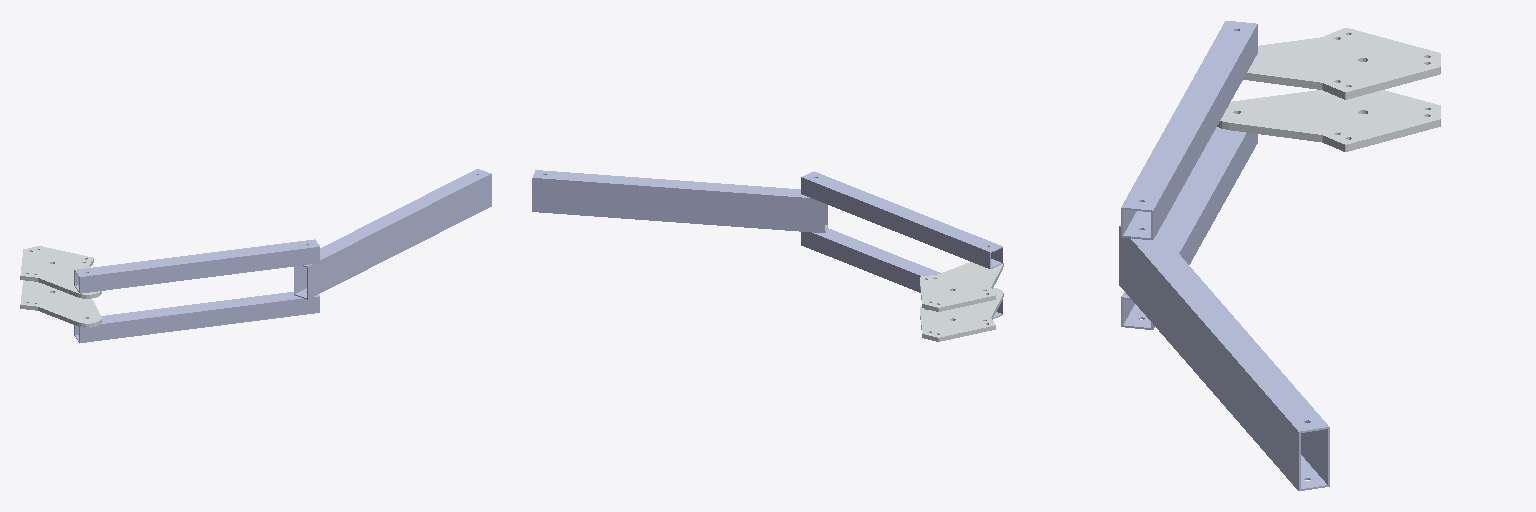
URDF robot description (ARM_GL_FEASimplified):
<?xml version="1.0" encoding="utf-8"?>
<!-- This URDF was automatically created by SolidWorks to URDF Exporter! Originally created by [author] ([email redacted]) 
     Commit Version: 1.5.1-0-g916b5db  Build Version: 1.5.7152.31018
     For more information, please see http://wiki.ros.org/sw_urdf_exporter -->
<robot
  name="ARM_GL_FEASimplified">
  <link
    name="base_link">
    <inertial>
      <origin
        xyz="0.42345 -0.78175 0.39384"
        rpy="0 0 0" />
      <mass
        value="2.0723" />
      <inertia
        ixx="0.26421"
        ixy="6.2094E-17"
        ixz="-2.0386E-16"
        iyy="0.2632"
        iyz="0.00035409"
        izz="0.013402" />
    </inertial>
    <visual>
      <origin
        xyz="0 0 0"
        rpy="0 0 0" />
      <geometry>
        <mesh
          filename="package://ARM_GL_FEASimplified/meshes/base_link.STL" />
      </geometry>
      <material
        name="">
        <color
          rgba="0.89804 0.91765 0.92941 1" />
      </material>
    </visual>
    <collision>
      <origin
        xyz="0 0 0"
        rpy="0 0 0" />
      <geometry>
        <mesh
          filename="package://ARM_GL_FEASimplified/meshes/base_link.STL" />
      </geometry>
    </collision>
  </link>
  <link
    name="linear_link">
    <inertial>
      <origin
        xyz="-0.023566 0.0254 -4.22E-10"
        rpy="0 0 0" />
      <mass
        value="0.3983" />
      <inertia
        ixx="0.00021468"
        ixy="1.1874E-11"
        ixz="-1.1027E-18"
        iyy="0.00092937"
        iyz="-3.5223E-12"
        izz="0.00071736" />
    </inertial>
    <visual>
      <origin
        xyz="0 0 0"
        rpy="0 0 0" />
      <geometry>
        <mesh
          filename="package://ARM_GL_FEASimplified/meshes/linear_link.STL" />
      </geometry>
      <material
        name="">
        <color
          rgba="0.89804 0.91765 0.92941 1" />
      </material>
    </visual>
    <collision>
      <origin
        xyz="0 0 0"
        rpy="0 0 0" />
      <geometry>
        <mesh
          filename="package://ARM_GL_FEASimplified/meshes/linear_link.STL" />
      </geometry>
    </collision>
  </link>
  <joint
    name="linear_joint"
    type="fixed">
    <origin
      xyz="0.42345 -0.78271 0.7034"
      rpy="-1.5708 0 1.5708" />
    <parent
      link="base_link" />
    <child
      link="linear_link" />
    <axis
      xyz="0 0 0" />
    <limit
      lower="0"
      upper="0"
      effort="0"
      velocity="0" />
  </joint>
  <link
    name="shoulder_link">
    <inertial>
      <origin
        xyz="0.0127 -0.0254 0.175"
        rpy="0 0 0" />
      <mass
        value="0.1056" />
      <inertia
        ixx="0.0010841"
        ixy="-6.9978E-16"
        ixz="2.5263E-18"
        iyy="0.0010842"
        iyz="-1.3142E-11"
        izz="2.0059E-05" />
    </inertial>
    <visual>
      <origin
        xyz="0 0 0"
        rpy="0 0 0" />
      <geometry>
        <mesh
          filename="package://ARM_GL_FEASimplified/meshes/shoulder_link.STL" />
      </geometry>
      <material
        name="">
        <color
          rgba="0.79216 0.81961 0.93333 1" />
      </material>
    </visual>
    <collision>
      <origin
        xyz="0 0 0"
        rpy="0 0 0" />
      <geometry>
        <mesh
          filename="package://ARM_GL_FEASimplified/meshes/shoulder_link.STL" />
      </geometry>
    </collision>
  </link>
  <joint
    name="shoulder_joint"
    type="fixed">
    <origin
      xyz="-0.10602 0 0.017518"
      rpy="3.1416 0.23193 0" />
    <parent
      link="linear_link" />
    <child
      link="shoulder_link" />
    <axis
      xyz="0 0 0" />
  </joint>
  <link
    name="elbow_link">
    <inertial>
      <origin
        xyz="-6.6613E-16 -0.0254 0.185"
        rpy="0 0 0" />
      <mass
        value="0.092617" />
      <inertia
        ixx="0.0012632"
        ixy="9.3869E-20"
        ixz="3.8133E-18"
        iyy="0.0012426"
        iyz="-7.0674E-18"
        izz="4.1215E-05" />
    </inertial>
    <visual>
      <origin
        xyz="0 0 0"
        rpy="0 0 0" />
      <geometry>
        <mesh
          filename="package://ARM_GL_FEASimplified/meshes/elbow_link.STL" />
      </geometry>
      <material
        name="">
        <color
          rgba="0.79216 0.81961 0.93333 1" />
      </material>
    </visual>
    <collision>
      <origin
        xyz="0 0 0"
        rpy="0 0 0" />
      <geometry>
        <mesh
          filename="package://ARM_GL_FEASimplified/meshes/elbow_link.STL" />
      </geometry>
    </collision>
  </link>
  <joint
    name="elbow_joint"
    type="continuous">
    <origin
      xyz="0.0127 0 0.335"
      rpy="0 0.58421 0" />
    <parent
      link="shoulder_link" />
    <child
      link="elbow_link" />
    <axis
      xyz="0 1 0" />
  </joint>
</robot>

--- Render facts (derived) ---
Views: 3 orthographic renders of the robot side by side, from view 1: azimuth 30°, elevation 25°; view 2: azimuth 150°, elevation 25°; view 3: azimuth 270°, elevation 25°.
Robot: ARM_GL_FEASimplified — 4 links, 3 joints (1 continuous, 2 fixed); root link base_link; default pose: all joints at 0.
Visible links, largest first — view 1: shoulder_link, elbow_link, linear_link; view 2: elbow_link, shoulder_link, linear_link; view 3: elbow_link, linear_link, shoulder_link.
Boxes of the visible links, x1,y1,x2,y2 form: shoulder_link: (74, 239, 319, 342); elbow_link: (294, 169, 491, 299); linear_link: (20, 246, 101, 327); elbow_link: (532, 170, 827, 232); shoulder_link: (801, 171, 1002, 319); linear_link: (920, 262, 1003, 341); elbow_link: (1119, 225, 1329, 490); linear_link: (1217, 28, 1440, 151); shoulder_link: (1121, 21, 1257, 329).
Bounding box of the posed robot: 0.7363 × 0.2473 × 0.1016 m (x, y, z).
Meshes: 4 distinct files referenced, 3 mesh visuals loaded (3 binary STL); not drawn: 1 (reference not matched to a file when rendering).